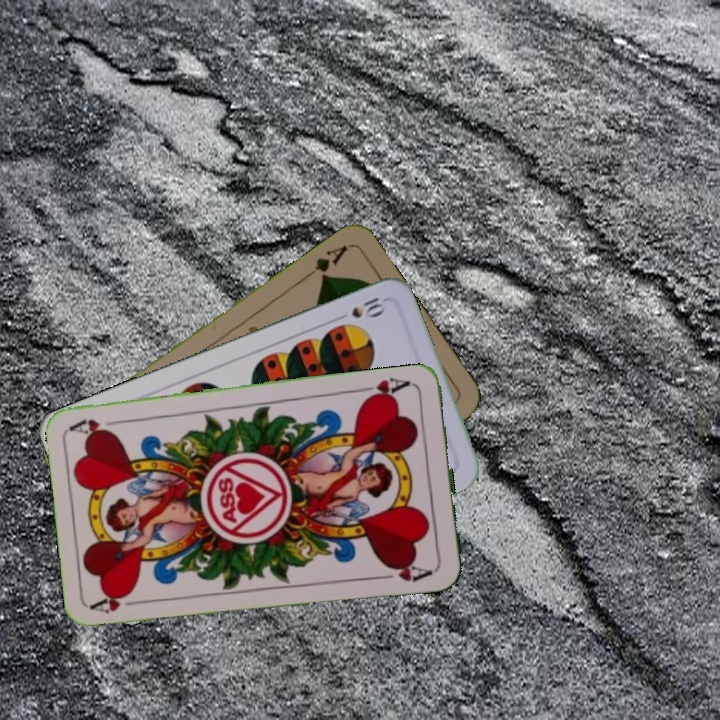GA: (300, 241, 351, 282)
HA: (357, 374, 416, 404), (89, 589, 148, 617)
S10: (332, 293, 389, 323)
